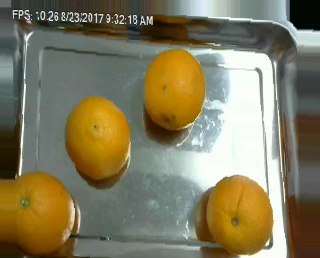Orange: (64, 94, 131, 180), (205, 173, 273, 254), (142, 48, 205, 129)
